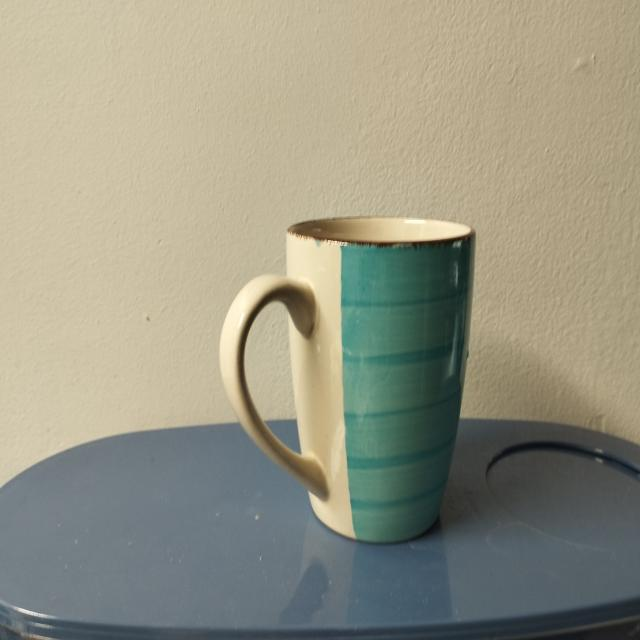Cup: (182, 165, 510, 560)
